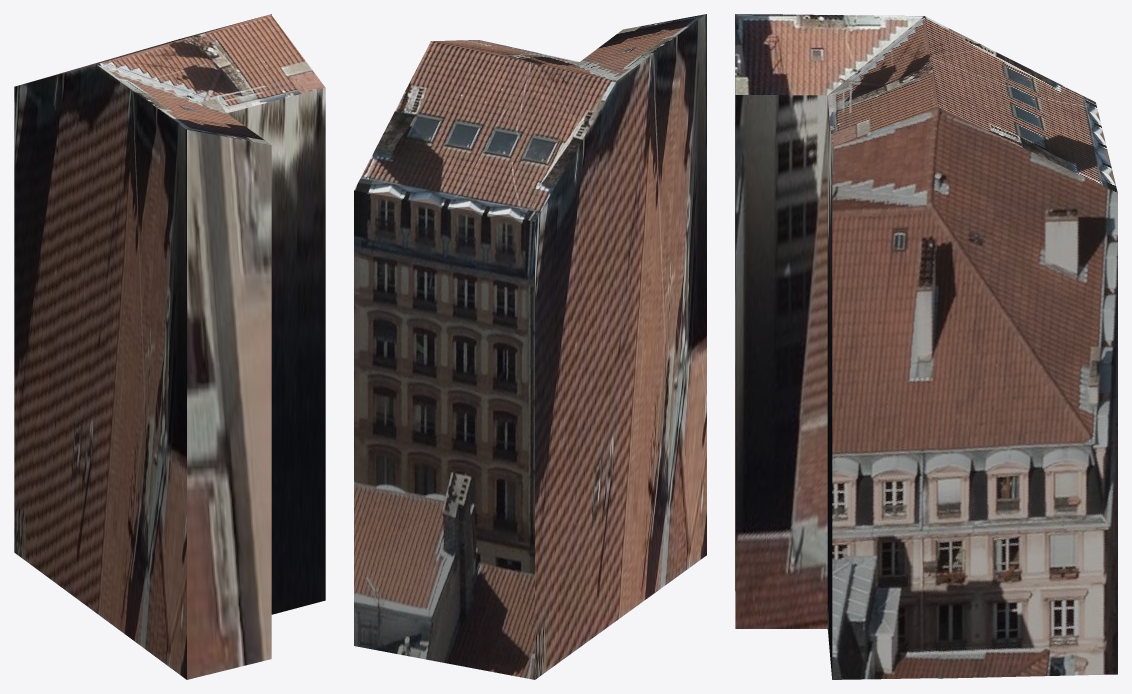
The picture shows the model from 3 angles, left to right: view 1: azimuth 30°, elevation 25°; view 2: azimuth 150°, elevation 25°; view 3: azimuth 270°, elevation 25°; orthographic projection. The views are drawn at different scales.
Parts seen in each view (by area): view 1: Z_UP; view 2: Z_UP; view 3: Z_UP.
Part boxes in pixels (x1=…): Z_UP: x1=14, y1=14, x2=325, y2=679; Z_UP: x1=354, y1=14, x2=706, y2=679; Z_UP: x1=735, y1=14, x2=1117, y2=679.
Bounding box in the file's own units: 9.61 × 27.26 × 16.54.
Materials: 2 (1 with a texture image).
